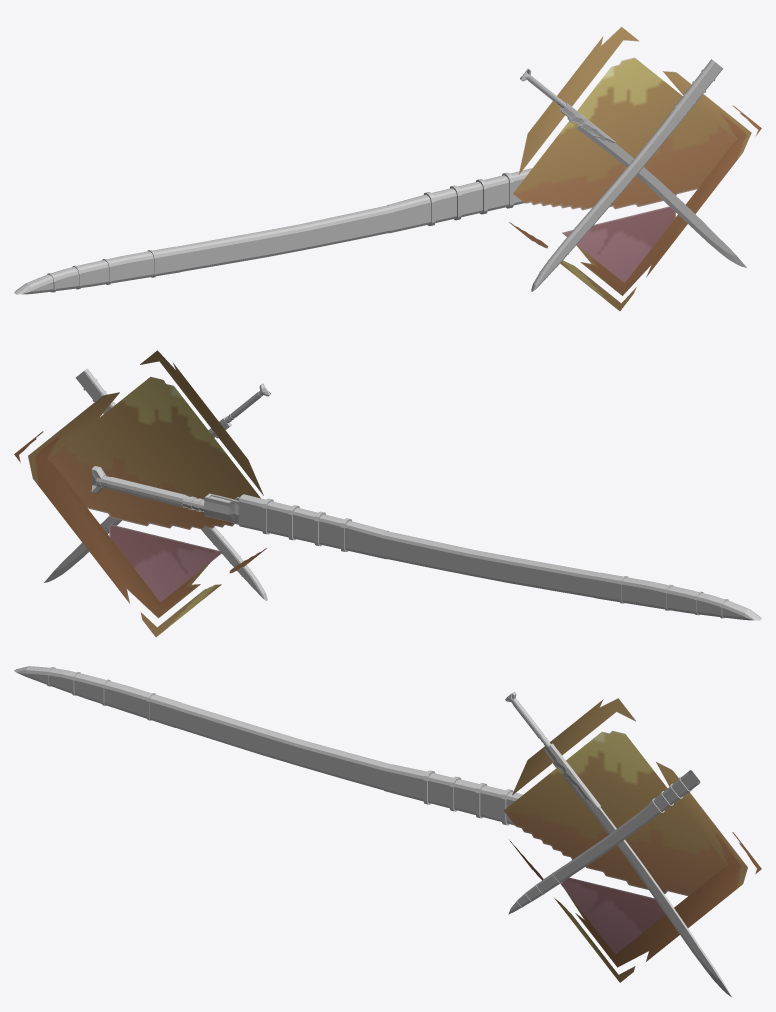
Rendered from sange.obj.
3 renders of one model, top to bottom at view 1: azimuth 30°, elevation 25°; view 2: azimuth 150°, elevation 25°; view 3: azimuth 330°, elevation 25°, orthographic.
Parts seen in each view (by area): view 1: item_blade, sheath; view 2: item_blade, sheath, blade; view 3: item_blade, sheath.
Part boxes in pixels (x1,y1,x2,y2): item_blade: (509, 26, 761, 310); sheath: (14, 168, 532, 294); item_blade: (14, 350, 270, 636); sheath: (238, 494, 761, 620); blade: (91, 466, 551, 590); item_blade: (504, 692, 761, 997); sheath: (14, 666, 522, 825).
Size of the model in its own units: 372 by 141 by 15.31.
